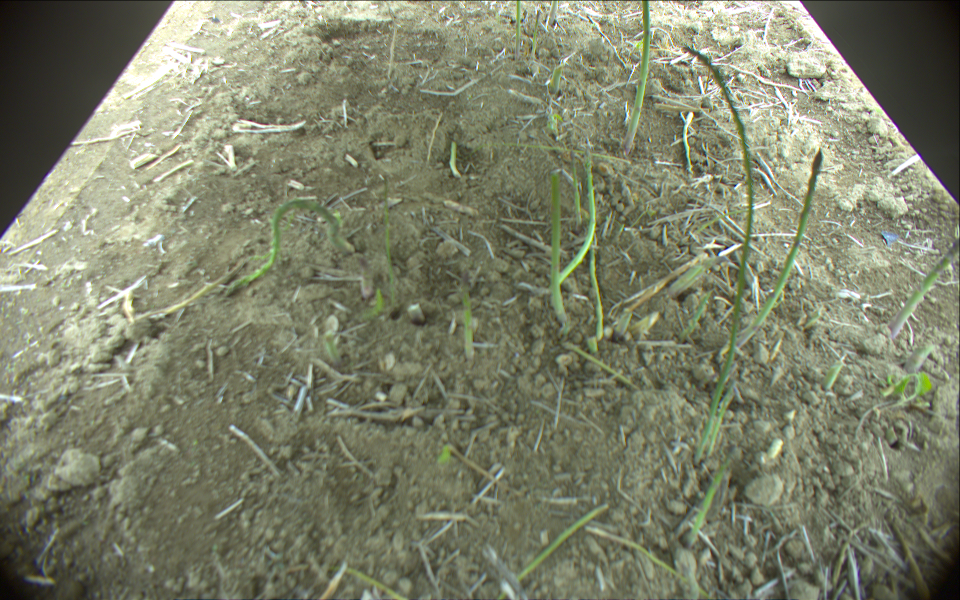aspa: (688, 45, 752, 466), (738, 147, 823, 344), (228, 200, 340, 291), (510, 505, 610, 582), (885, 241, 960, 338), (548, 147, 597, 285), (620, 1, 655, 151), (565, 343, 638, 390), (686, 467, 724, 541), (549, 171, 568, 319), (708, 397, 734, 458), (460, 269, 475, 364), (588, 244, 602, 341), (381, 178, 392, 297), (512, 1, 525, 58), (822, 361, 841, 391), (531, 9, 541, 58)
